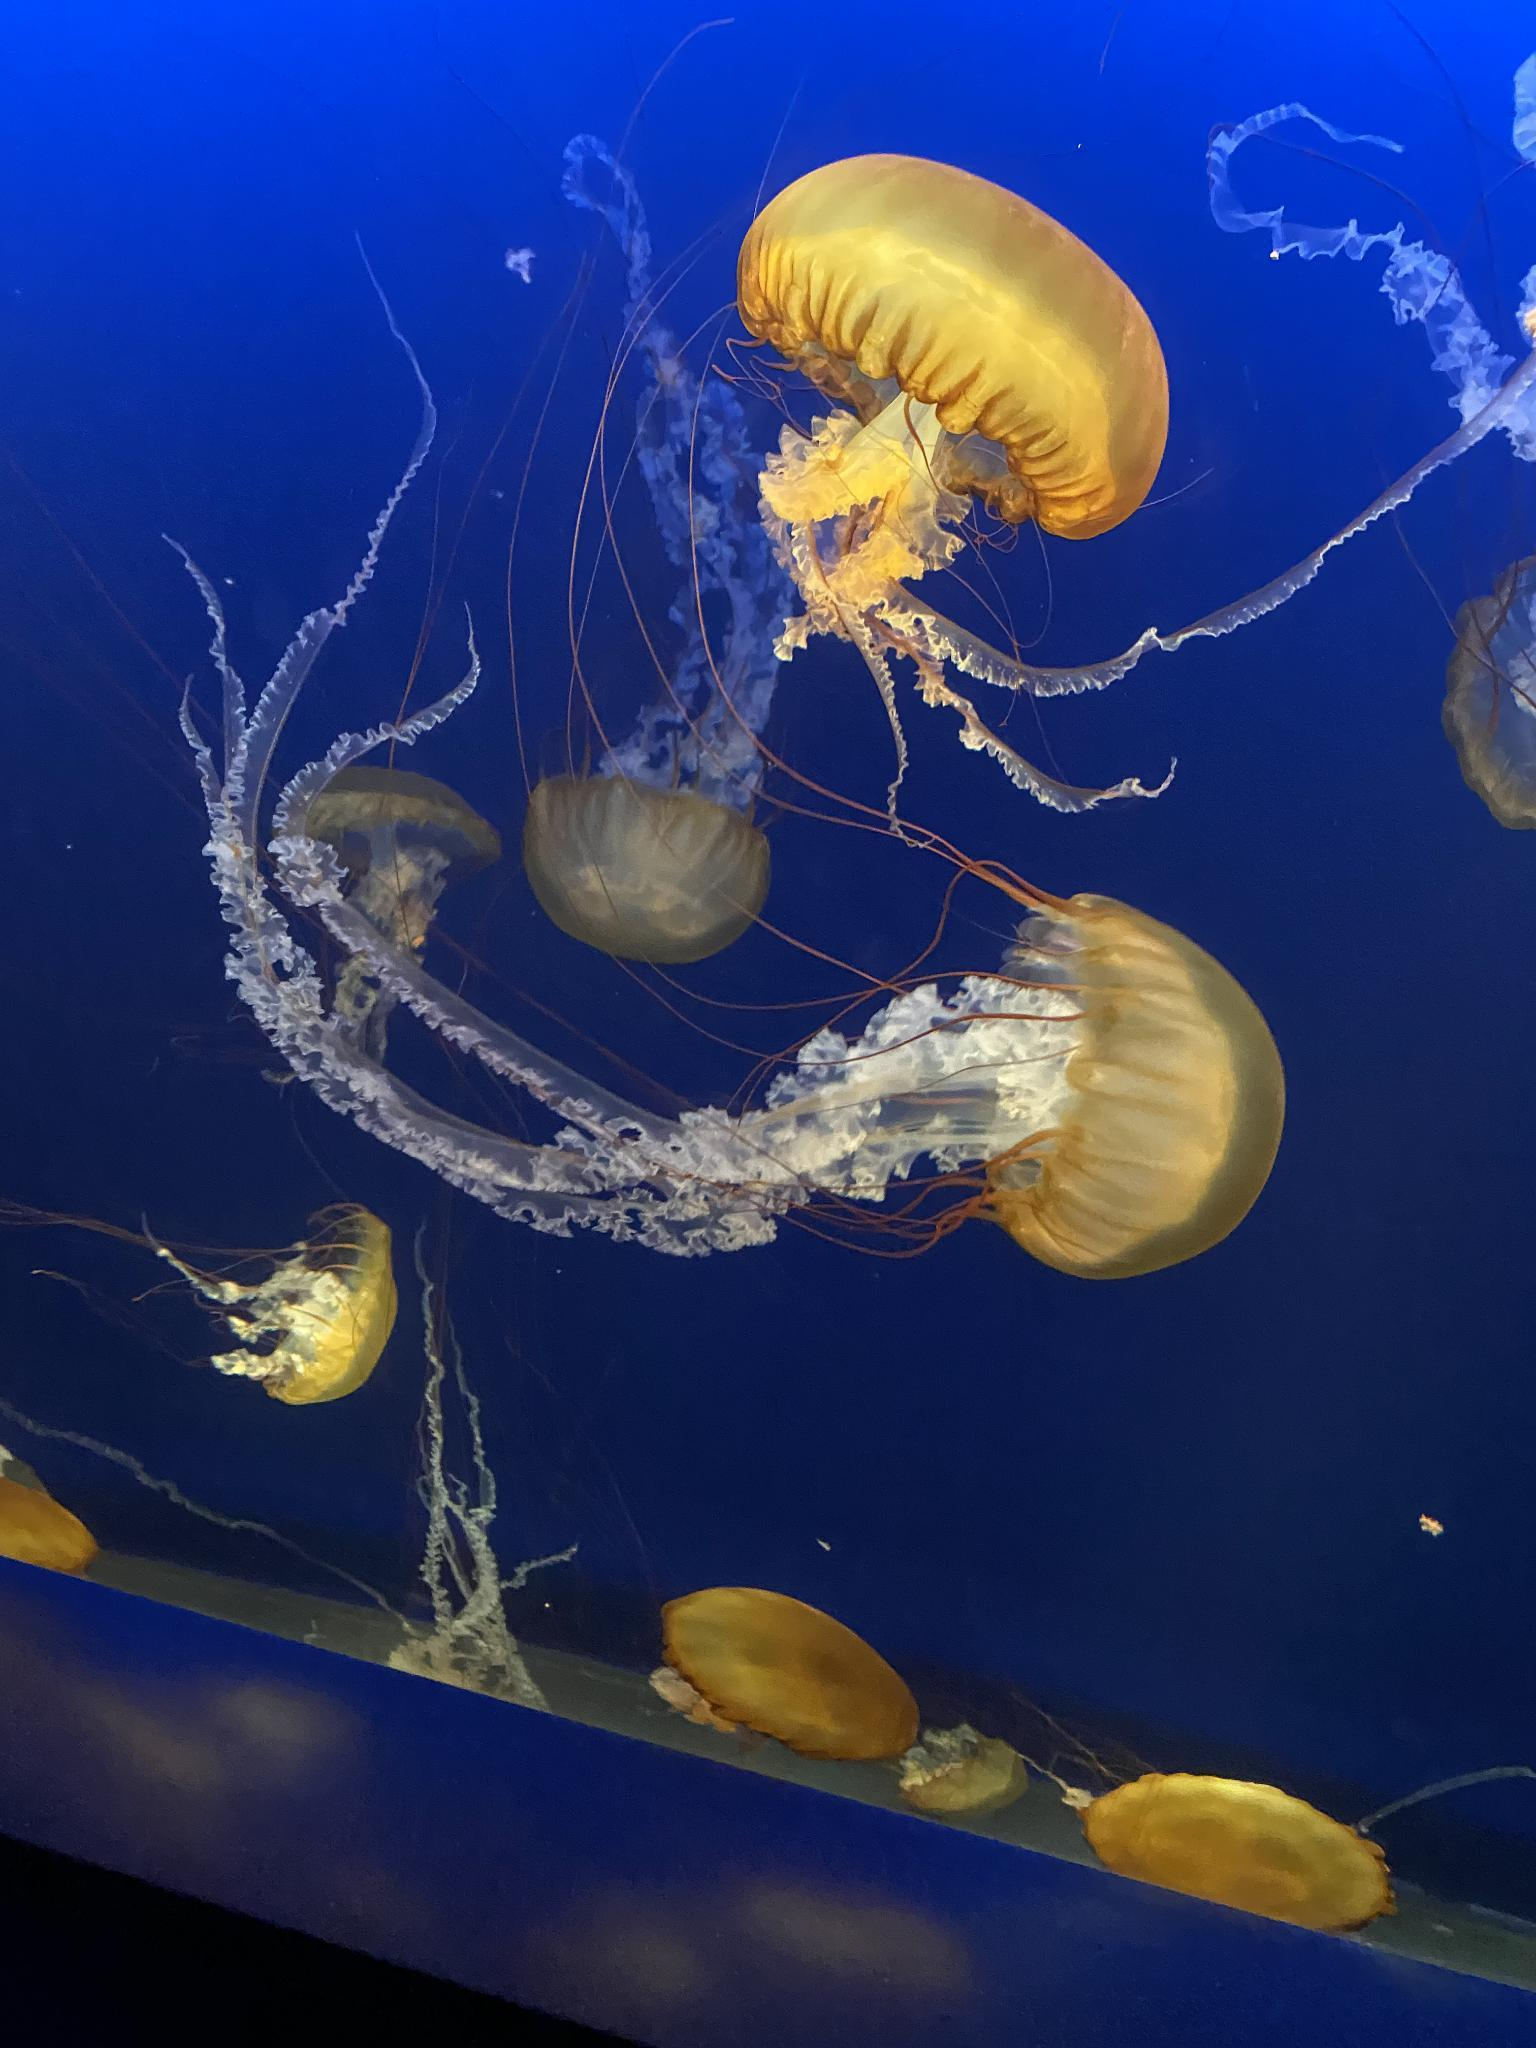jellyfish: (737, 155, 1171, 542), (984, 898, 1284, 1279), (1087, 1772, 1392, 1930), (663, 1584, 913, 1766), (529, 777, 766, 966), (252, 1205, 394, 1403), (289, 768, 499, 882), (1449, 555, 1534, 834), (904, 1735, 1028, 1829), (0, 1459, 95, 1576)
